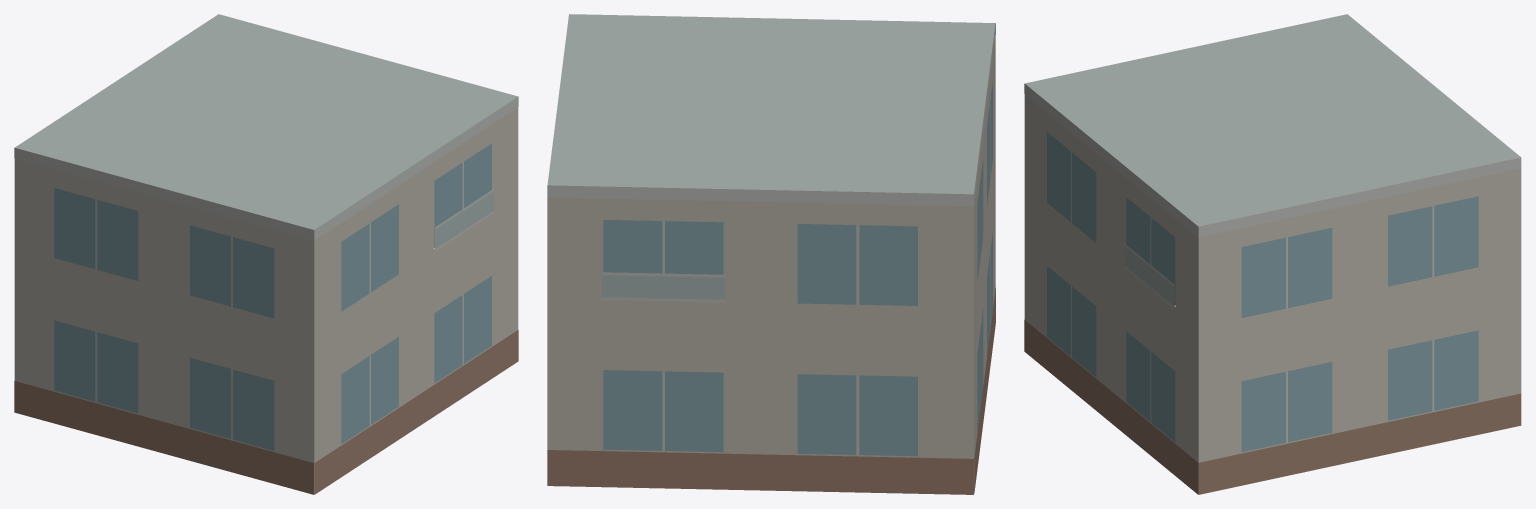
Rendered from survey-upis-32719305.glb.
The picture shows the model from 3 angles, left to right: view 1: azimuth 30°, elevation 25°; view 2: azimuth 150°, elevation 25°; view 3: azimuth 270°, elevation 25°; orthographic projection. The views are drawn at different scales.
Visible parts, largest first — view 1: survey-upis-32719305.tmp; view 2: survey-upis-32719305.tmp; view 3: survey-upis-32719305.tmp.
Boxes of the visible parts, x1,y1,x2,y2 form: survey-upis-32719305.tmp: (14, 14, 518, 494); survey-upis-32719305.tmp: (547, 14, 995, 494); survey-upis-32719305.tmp: (1024, 14, 1521, 494).
Bounding box in the file's own units: 10.38 × 6.1 × 10.25.
